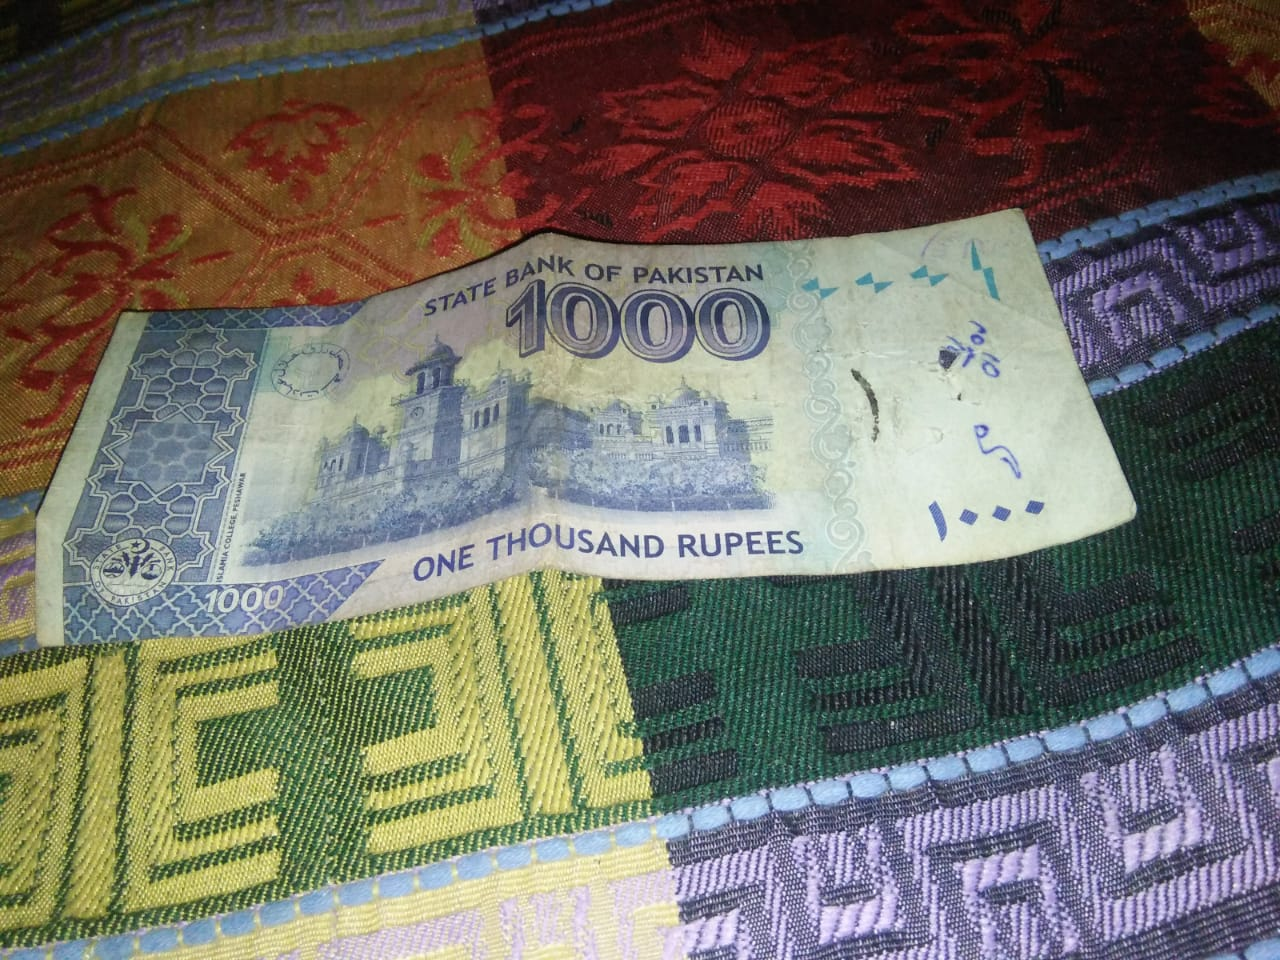1000 rupee: (31, 182, 1196, 666)
